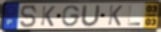G: (61, 4, 81, 27)
K: (107, 4, 124, 27), (40, 5, 56, 27)
L: (126, 5, 141, 27)
S: (20, 4, 38, 29)
U: (80, 5, 102, 28)
